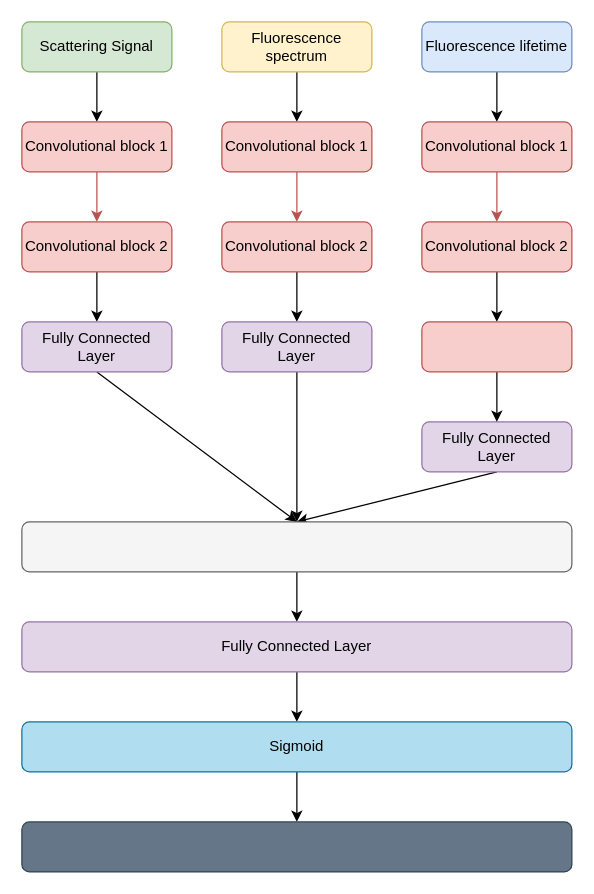
Image size: 594x894. Some labels were removed from this diagram. Here are the shapes that lost their labels. From the top down, the centre of each, then its label:
point (496, 346): Convolutional block 3
point (296, 546): Concatenation
point (296, 846): Probability of pollen classes
